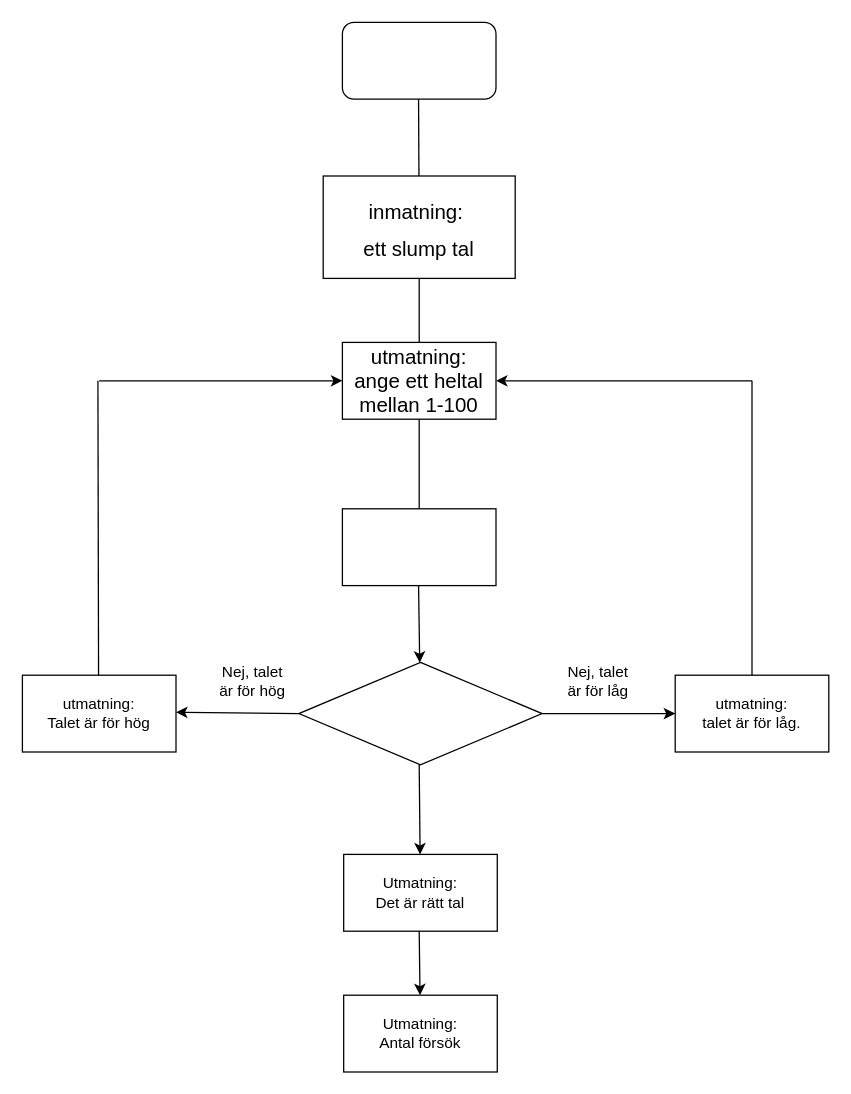
The diagram is 851 pixels wide and 1094 high, and some of its shapes have lost their labels. The shapes that lost their labels are listed below. From the top down, each one's centre as x and y in pixels, then its label:
point 418,60: start
point 418,547: inmatning: heltalsvarabel tal
point 420,713: är talet lika med den slump talet
